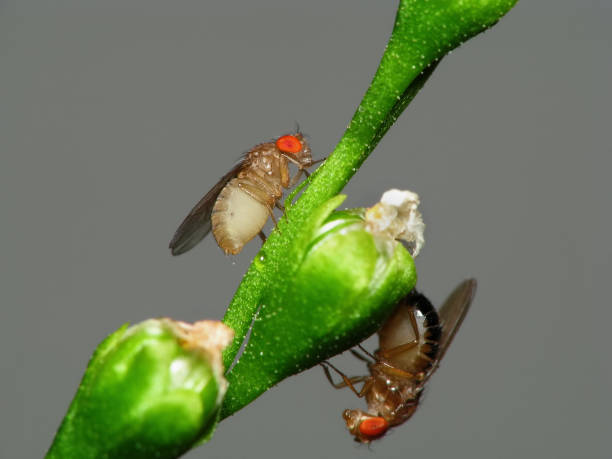Fruit fly: (336, 270, 479, 447), (167, 121, 324, 248)
